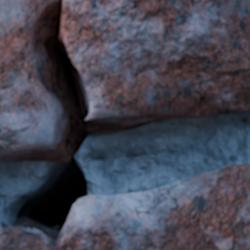broken_brick: (0, 0, 249, 162), (0, 164, 249, 249)
crack: (0, 2, 94, 247)
